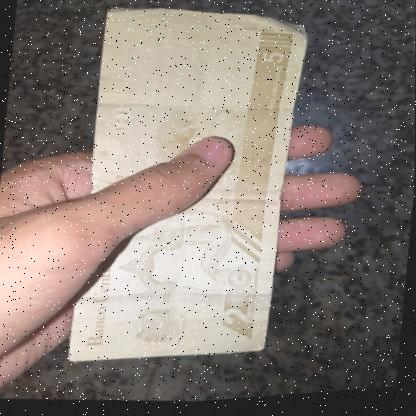five-back-vef: (68, 0, 309, 380)
